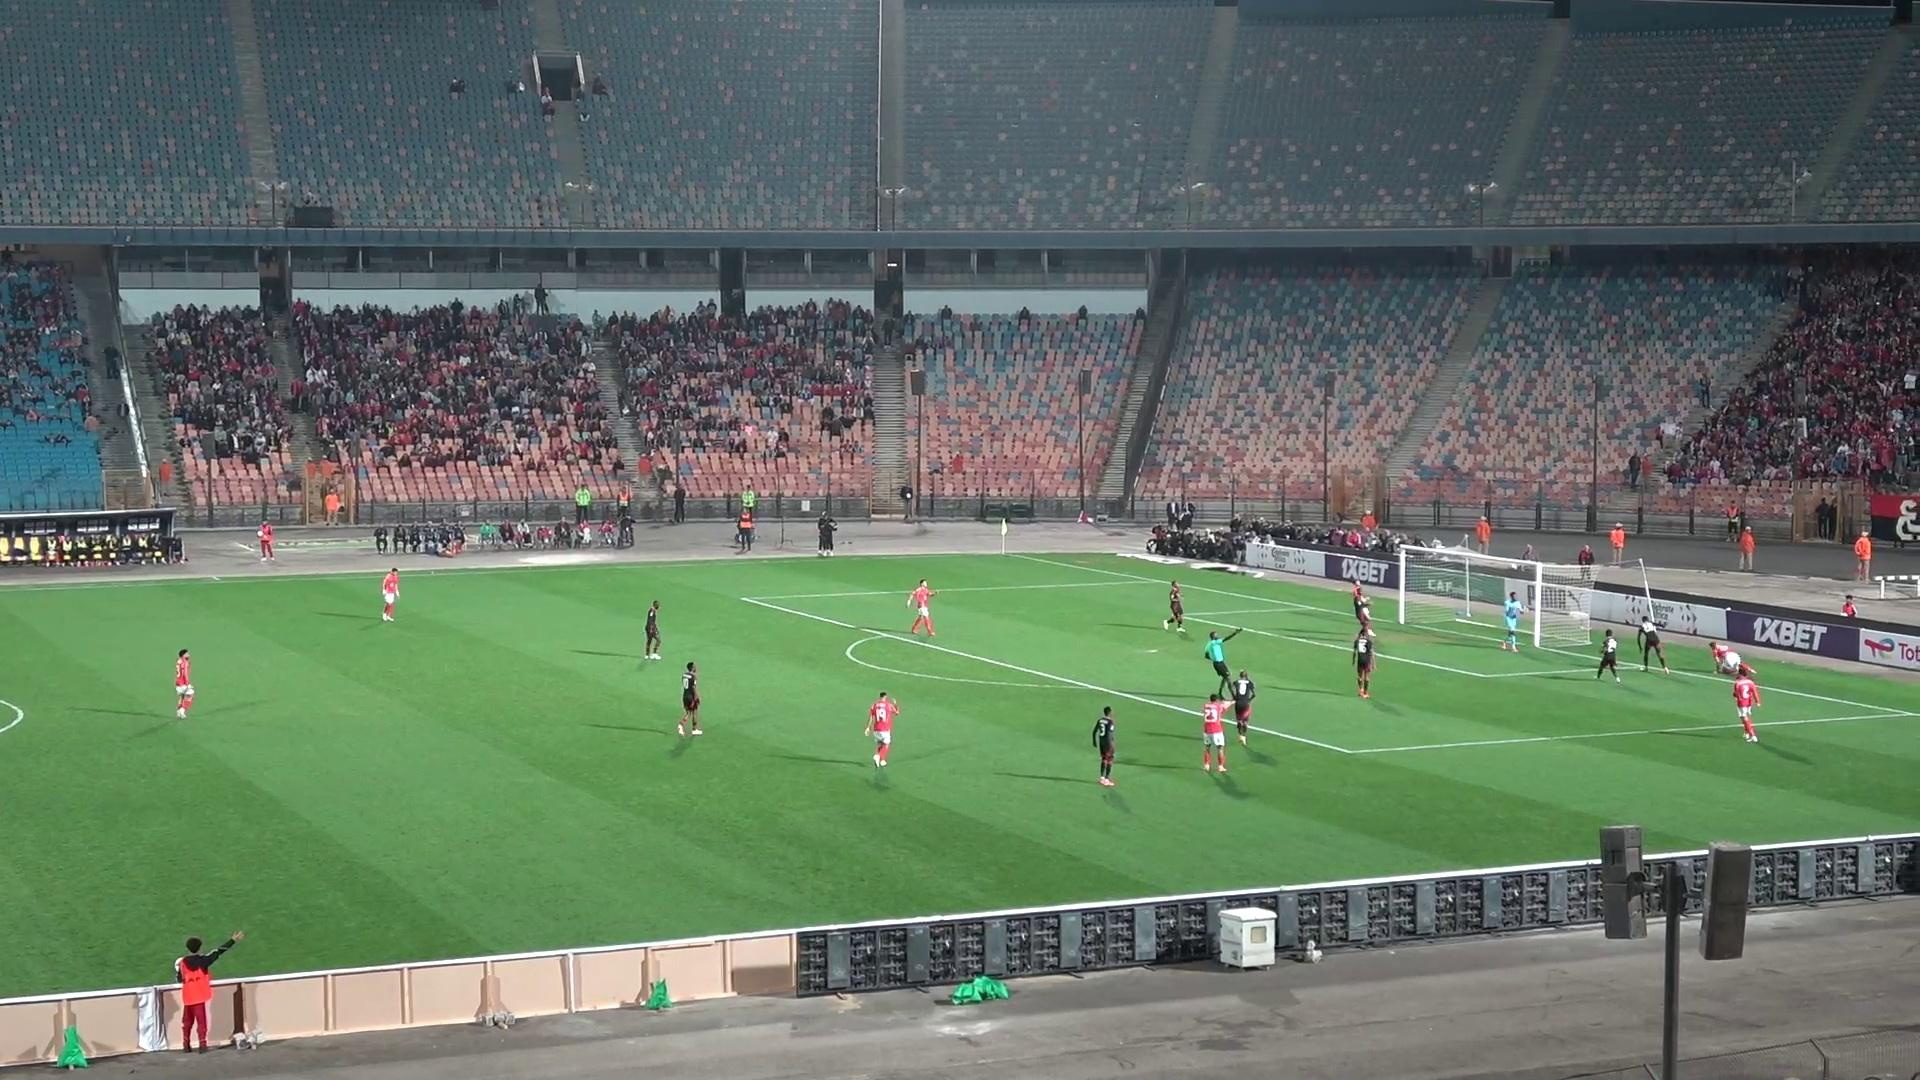GK2: (1501, 589, 1524, 651)
Refree: (1203, 626, 1242, 694)
Team1: (1720, 662, 1760, 742), (862, 692, 899, 770), (1199, 694, 1233, 773), (1708, 641, 1753, 679), (907, 579, 935, 636), (175, 647, 195, 717), (380, 567, 400, 621)
Team2: (1091, 707, 1116, 786), (1636, 615, 1669, 673), (676, 662, 702, 736), (1352, 625, 1377, 698), (1230, 670, 1255, 742), (1592, 629, 1619, 682), (640, 600, 663, 658), (1160, 580, 1185, 632), (1352, 584, 1371, 633)
